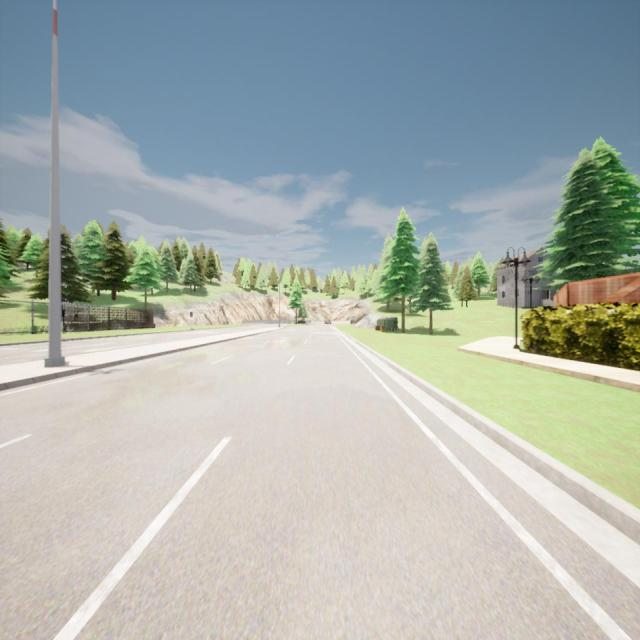Traffic_Signs: (190, 312, 193, 317)
Vehicle: (298, 319, 306, 324), (324, 319, 331, 324)
